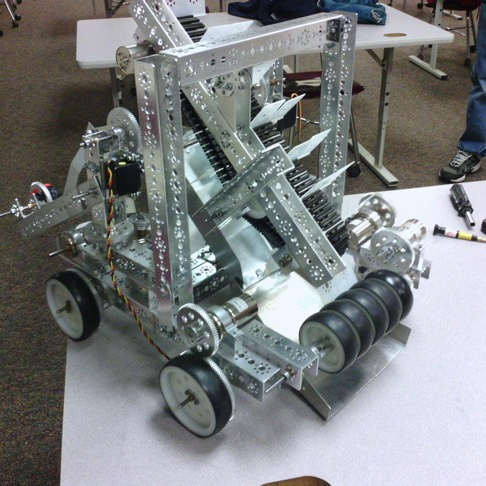robot: (0, 0, 437, 442)
